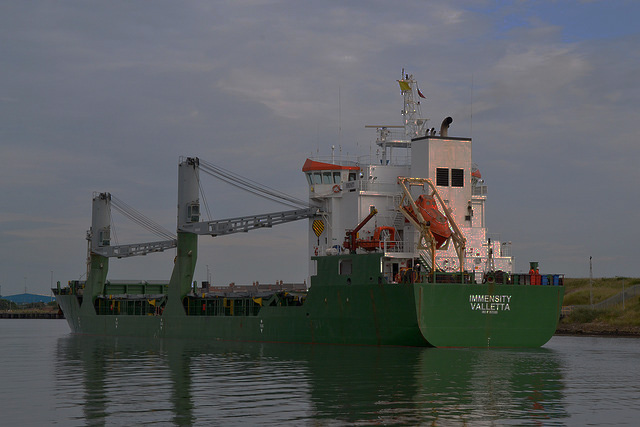bulk carrier: (50, 72, 568, 351)
